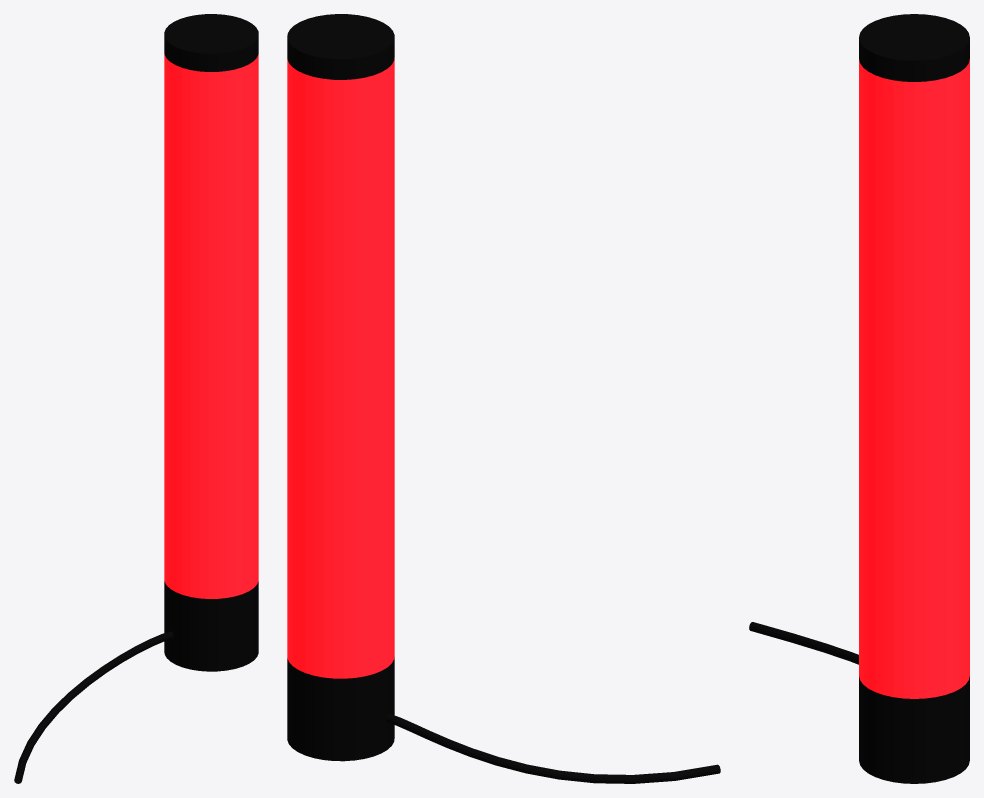
File: lamp.glb
3 views of the same model, side by side, from view 1: azimuth 30°, elevation 25°; view 2: azimuth 150°, elevation 25°; view 3: azimuth 270°, elevation 25° (orthographic). The views are drawn at different scales.
Parts seen in each view (by area): view 1: BézierCurve.001; view 2: BézierCurve.001; view 3: BézierCurve.001.
Part boxes in pixels (x1,y1,x2,y2): BézierCurve.001: [14, 14, 258, 783]; BézierCurve.001: [287, 14, 720, 783]; BézierCurve.001: [749, 14, 969, 783].
Size of the model in its own units: 0.8846 by 1.75 by 0.471.
